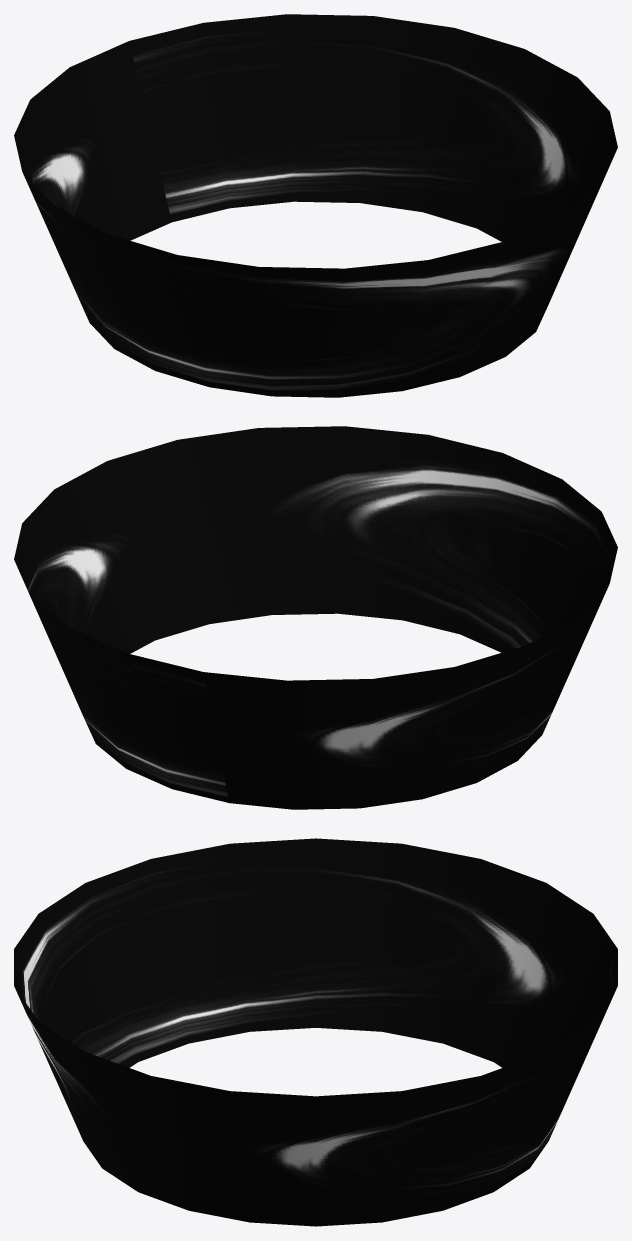
Rendered from 0241_caoxiyi_ring_z01.glb.
3 views of the same model, one above another, from view 1: azimuth 30°, elevation 25°; view 2: azimuth 150°, elevation 25°; view 3: azimuth 270°, elevation 25° (orthographic).
Bounding box in the file's own units: 2.2 × 0.6357 × 2.18.
Materials: 1 (1 with a texture image).
